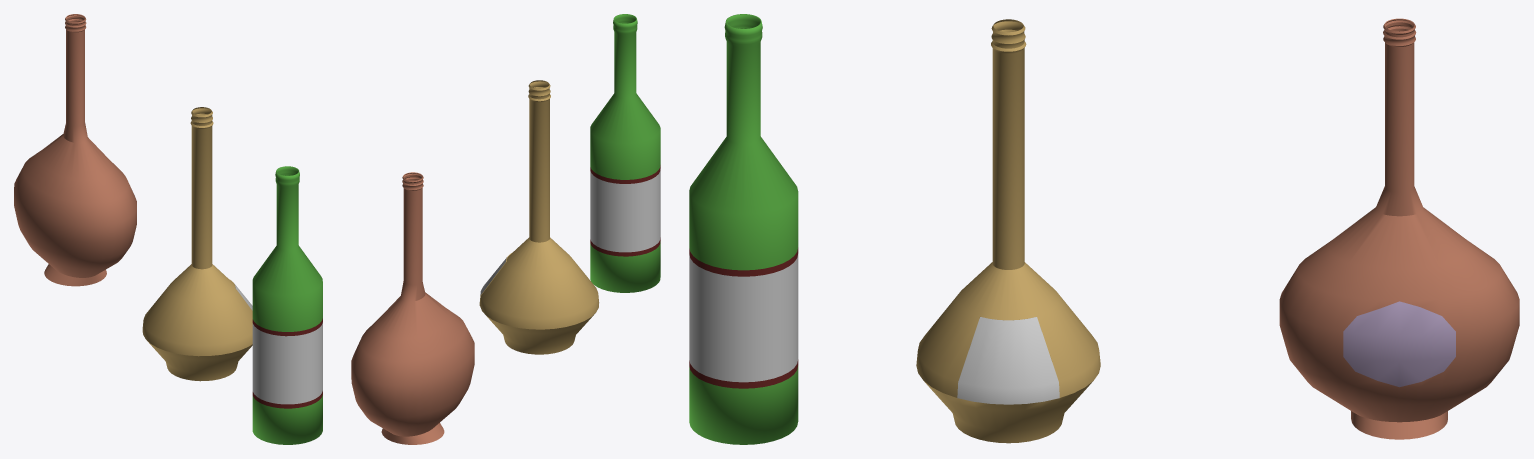
File: бутылки.fbx
The picture shows the model from 3 angles, left to right: view 1: azimuth 30°, elevation 25°; view 2: azimuth 150°, elevation 25°; view 3: azimuth 270°, elevation 25°; orthographic projection. The views are drawn at different scales.
Visible parts, largest first — view 1: Цилиндр.002, Цилиндр, Цилиндр.001; view 2: Цилиндр.002, Цилиндр, Цилиндр.001; view 3: Цилиндр.002, Цилиндр, Цилиндр.001.
Boxes of the visible parts, bbox=[...] form: Цилиндр.002: bbox=[14, 14, 136, 286]; Цилиндр: bbox=[252, 166, 322, 444]; Цилиндр.001: bbox=[142, 107, 252, 381]; Цилиндр.002: bbox=[351, 172, 474, 444]; Цилиндр: bbox=[590, 14, 660, 292]; Цилиндр.001: bbox=[479, 80, 599, 354]; Цилиндр.002: bbox=[1279, 18, 1519, 439]; Цилиндр: bbox=[689, 14, 798, 444]; Цилиндр.001: bbox=[916, 19, 1100, 443].
Size of the model in its own units: 3.82 by 9.11 by 17.12.
